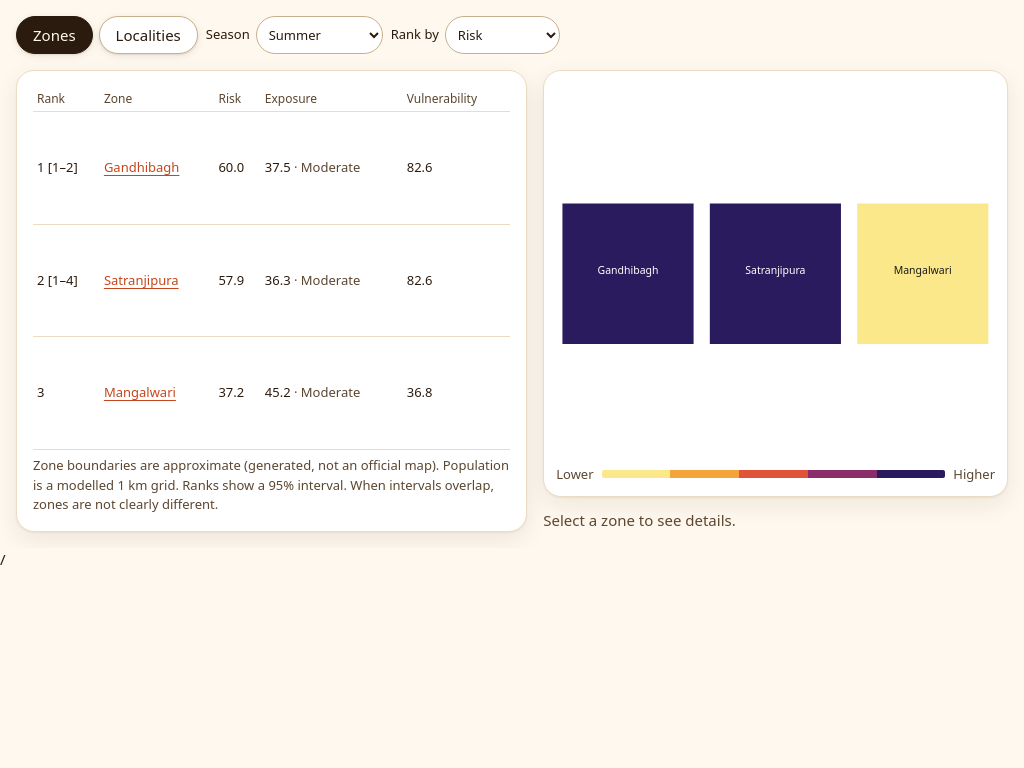
Scenario: ZonesPage › shows details and keeps the selection in the URL
Click the button "Satranjipura" at (141, 281), box x1=104 y1=271 x2=179 y2=290
(page scrolled)
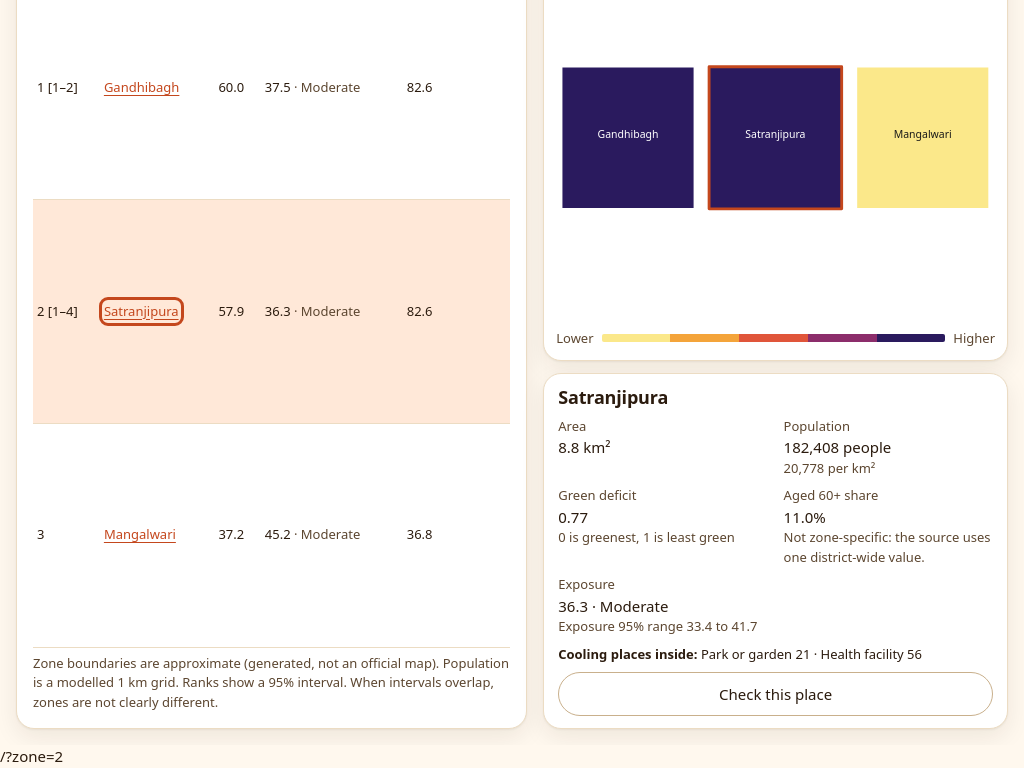
Expected: the heading "Satranjipura" is shown, x1=558 y1=385 x2=668 y2=409
Expected: the text "Aged 60+ share" is shown, x1=784 y1=486 x2=878 y2=504
Expected: the text with test id "location" shows "zone=2", x1=0 y1=746 x2=63 y2=766
